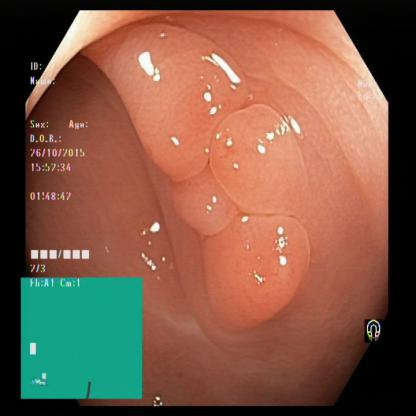Labels: (23, 55, 98, 280), (22, 277, 146, 401), (359, 312, 387, 346)
Polyps: (102, 41, 244, 164), (208, 220, 313, 323), (212, 110, 305, 225), (166, 160, 238, 250)
